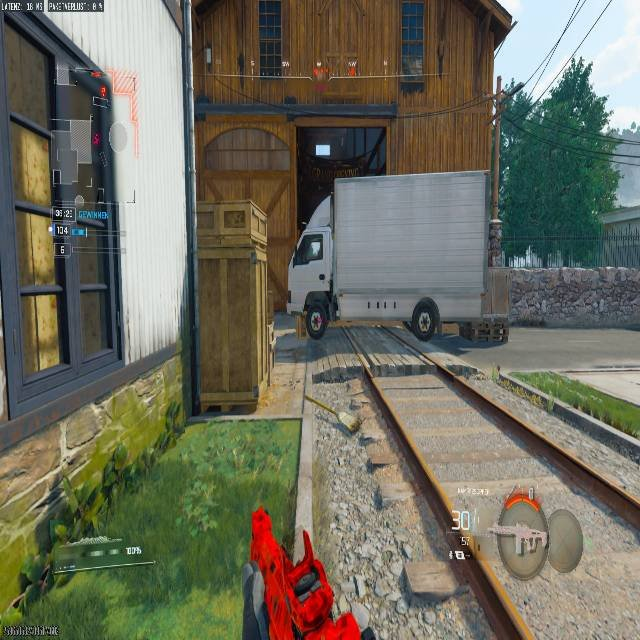player: (302, 273, 339, 341)
